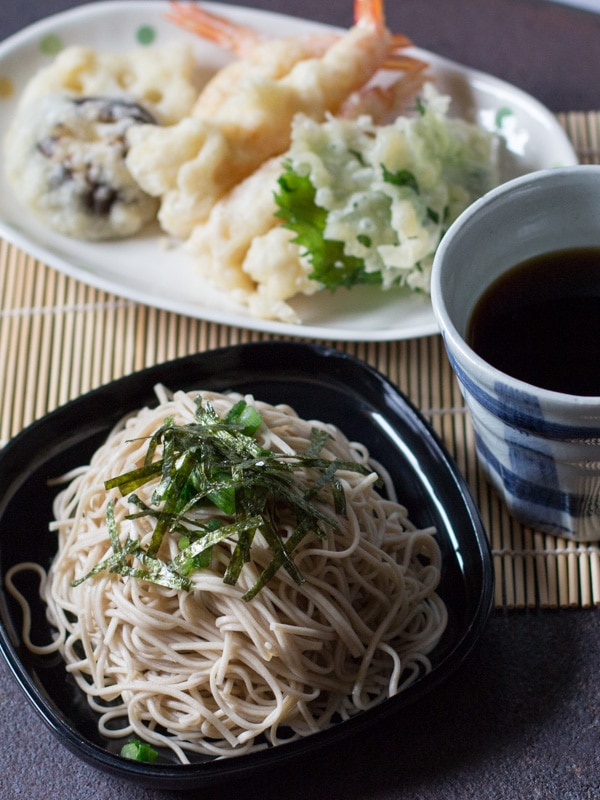Soba: (51, 387, 468, 762)
